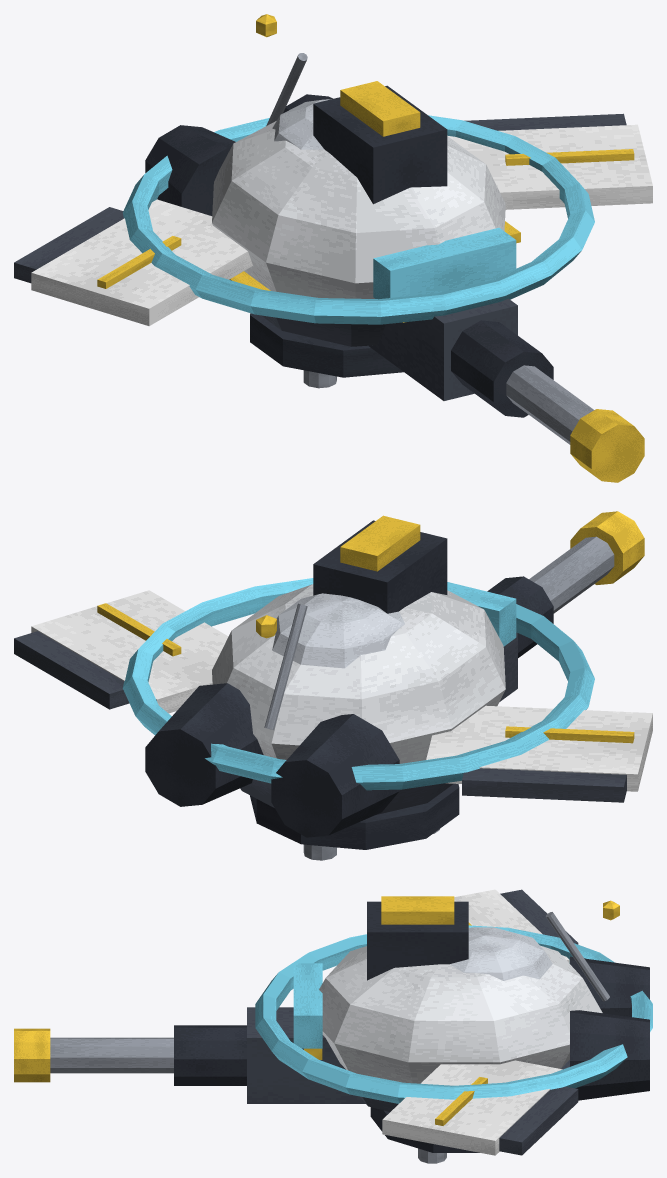
Rendered from drone_gun.glb.
3 renders of one model, top to bottom at view 1: azimuth 30°, elevation 25°; view 2: azimuth 150°, elevation 25°; view 3: azimuth 270°, elevation 25°, orthographic. The views are drawn at different scales.
Parts seen in each view (by area): view 1: drone_gun, halo; view 2: drone_gun, halo; view 3: drone_gun, halo.
Part boxes in pixels (left/top/right/bottom): drone_gun: left=14, top=14, right=652, bottom=482; halo: left=122, top=115, right=594, bottom=324; drone_gun: left=14, top=511, right=652, bottom=860; halo: left=122, top=578, right=594, bottom=790; drone_gun: left=14, top=889, right=649, bottom=1163; halo: left=255, top=925, right=652, bottom=1103.
Size of the model in its own units: 1.64 by 0.715 by 1.76.
Materials: 2 (2 with a texture image).
